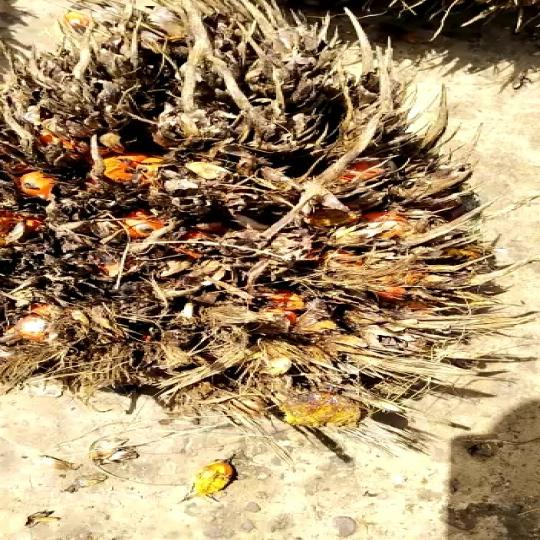terlalu masak: (0, 0, 508, 446)
